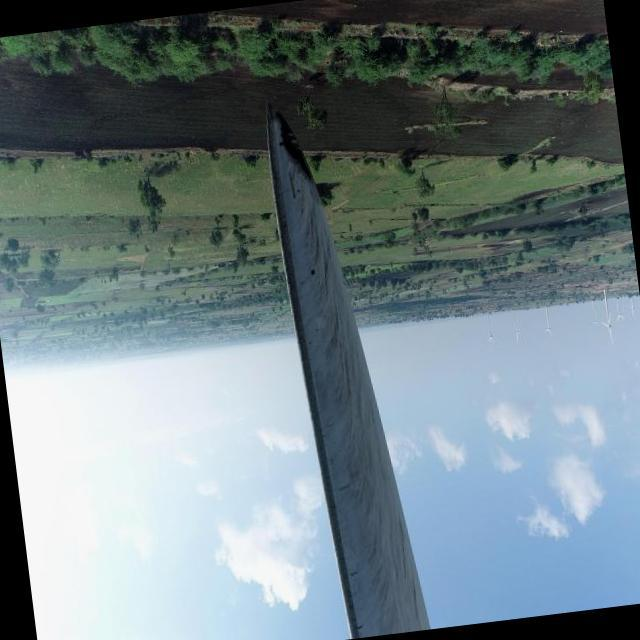Dirt: (265, 108, 430, 638)
Oil LEAKAGE: (267, 106, 319, 186)
Pin Hole: (275, 138, 288, 154), (309, 266, 320, 282)
